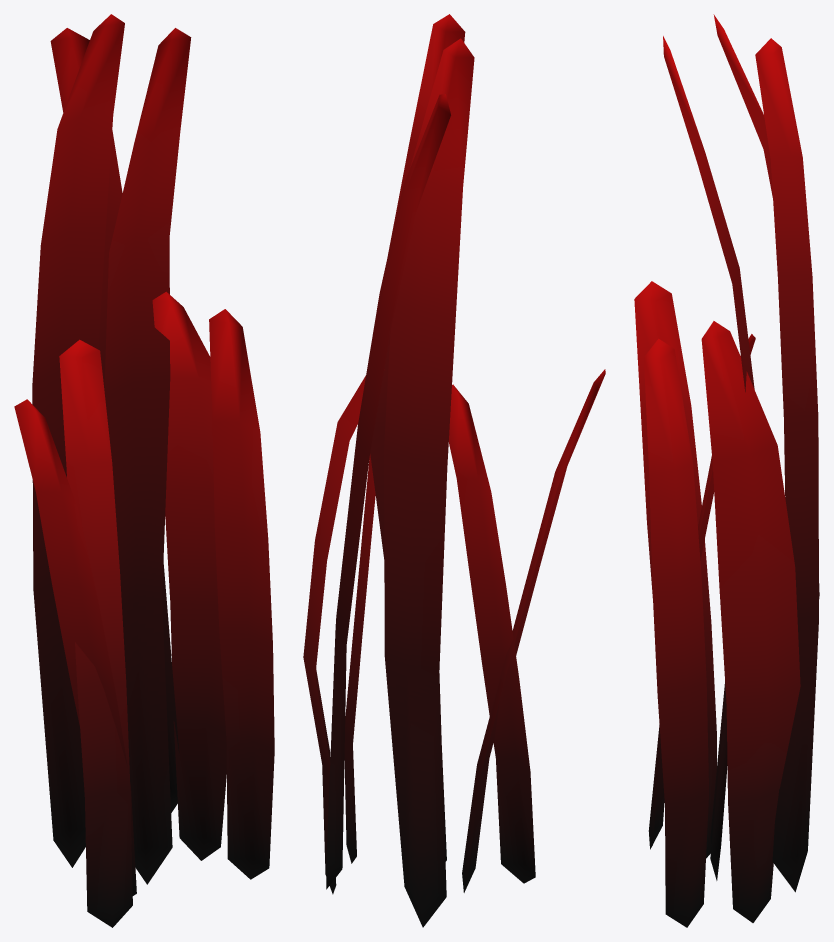
Rendered from Alga.fbx.
3 views of the same model, side by side, from view 1: azimuth 30°, elevation 25°; view 2: azimuth 150°, elevation 25°; view 3: azimuth 270°, elevation 25° (orthographic). The views are drawn at different scales.
Visible parts, largest first — view 1: Alga; view 2: Alga; view 3: Alga.
Boxes of the visible parts, x1=… form: Alga: x1=14, y1=14, x2=274, y2=927; Alga: x1=303, y1=14, x2=605, y2=927; Alga: x1=634, y1=14, x2=819, y2=927.
Bounding box in the file's own units: 21.71 × 69.6 × 13.63.
